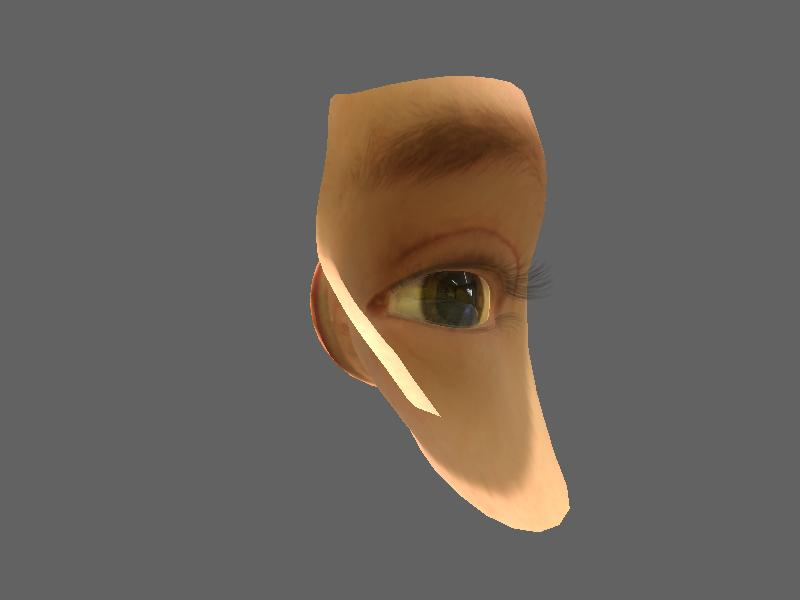iris: (423, 271, 492, 330)
